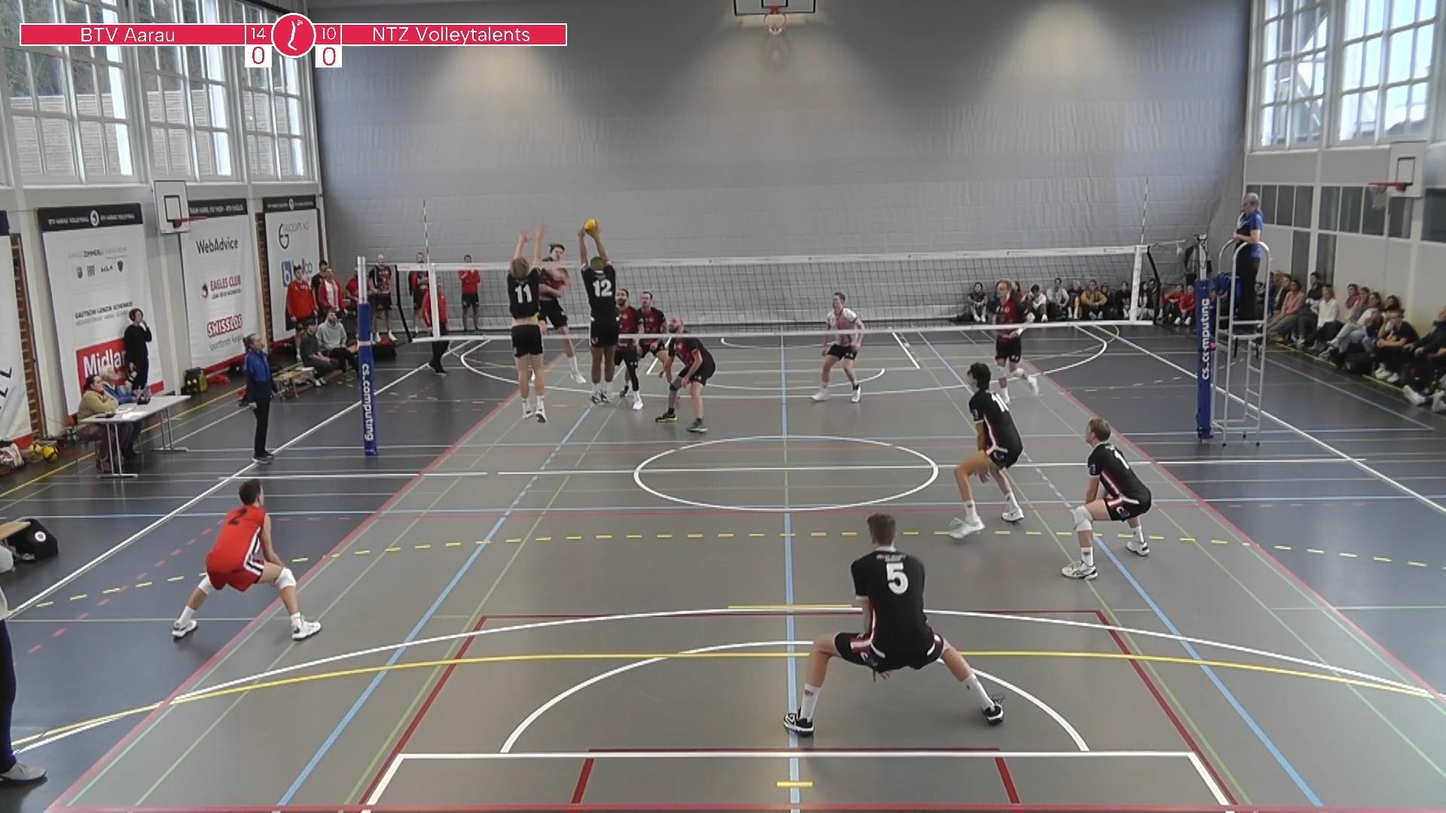Attack: (531, 242, 586, 389)
Block: (497, 223, 560, 427), (572, 223, 622, 411)
Player: (784, 514, 1003, 735), (172, 479, 320, 640), (1062, 418, 1151, 578), (949, 363, 1023, 539), (656, 317, 715, 433), (812, 292, 862, 403), (994, 281, 1038, 402), (639, 291, 667, 364), (615, 338, 642, 410)
ball: (582, 218, 601, 235)
